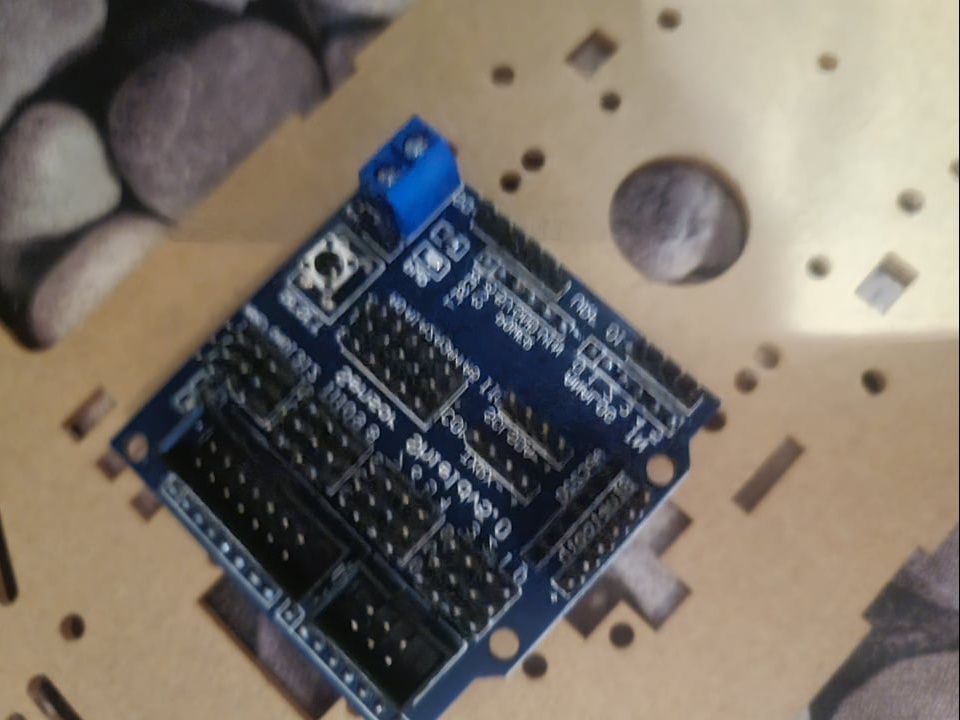5V EXPANSION: (113, 110, 722, 720)
